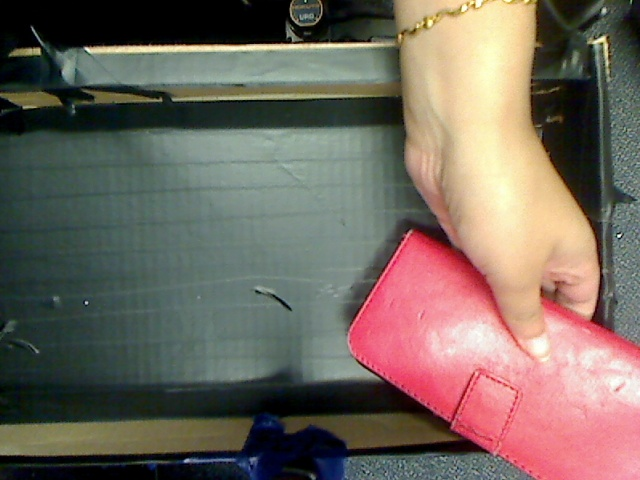phone: (336, 215, 629, 480)
